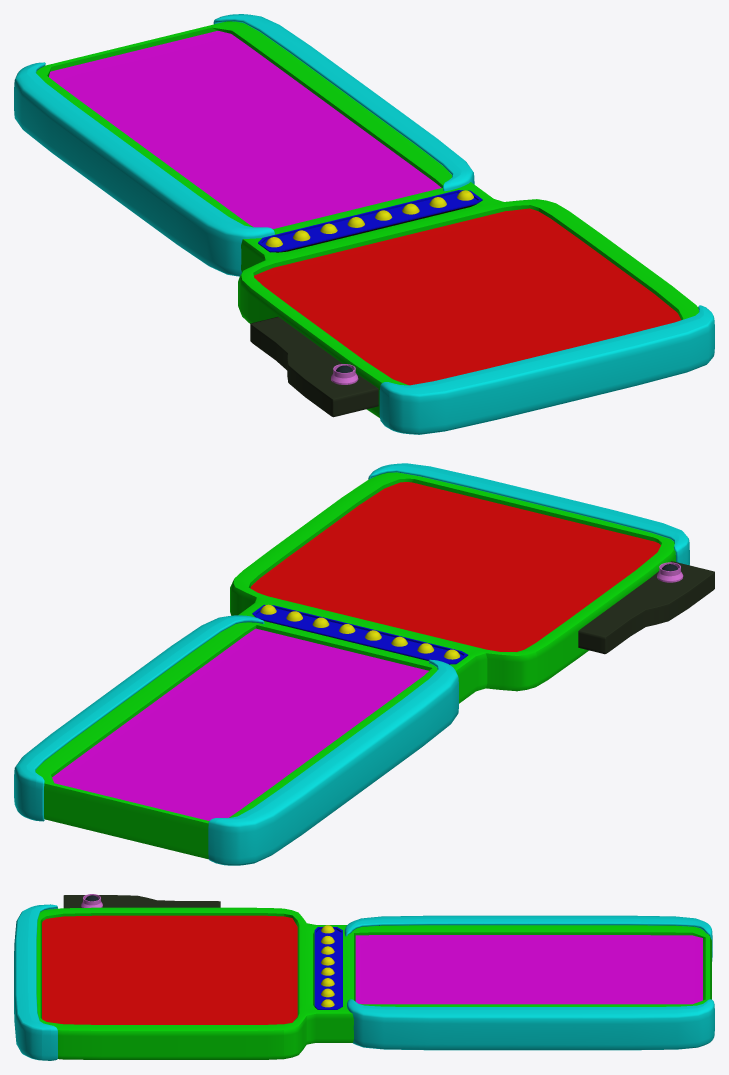
The model's file is Hand_Tool.fbx.
The picture shows the model from 3 angles, top to bottom: view 1: azimuth 30°, elevation 25°; view 2: azimuth 150°, elevation 25°; view 3: azimuth 270°, elevation 25°; orthographic projection. The views are drawn at different scales.
Parts seen in each view (by area): view 1: Hand_Tool; view 2: Hand_Tool; view 3: Hand_Tool.
Part boxes in pixels (x1,y1,x2,y2): Hand_Tool: [14, 14, 714, 434]; Hand_Tool: [14, 463, 714, 865]; Hand_Tool: [14, 894, 714, 1060].
Bounding box in the file's own units: 64.13 × 8.01 × 134.
